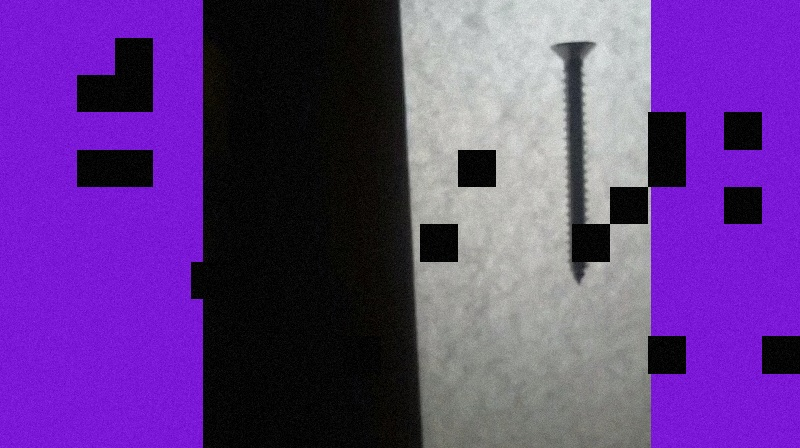S002: (546, 36, 603, 288)
